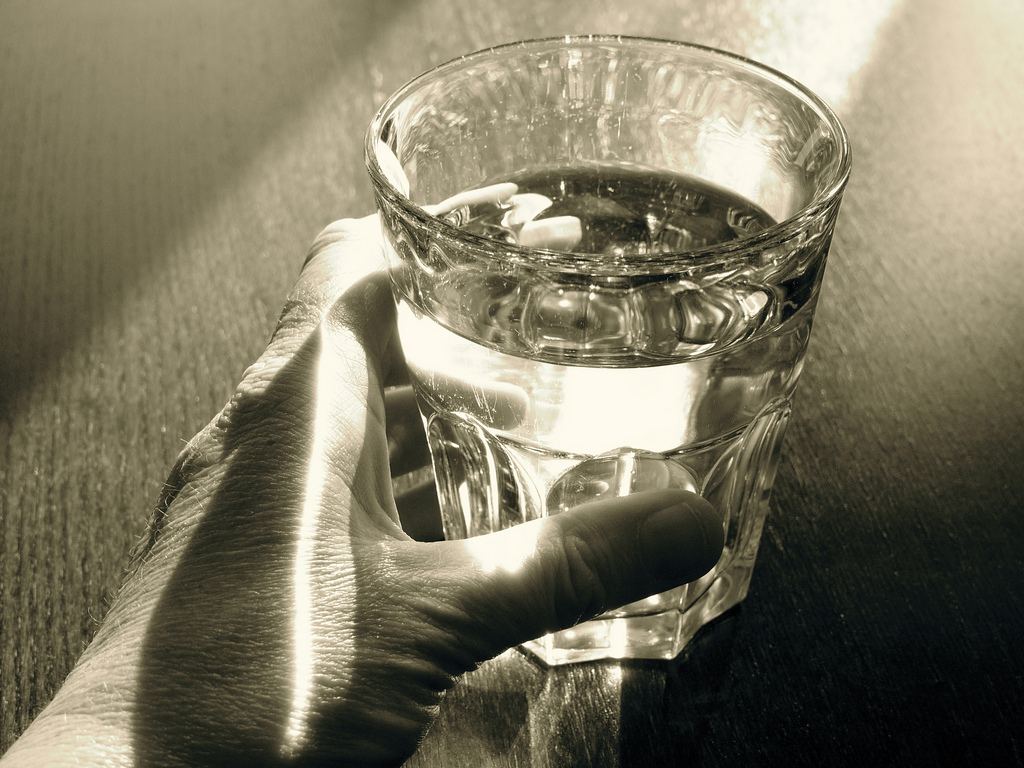glass of water: (372, 1, 858, 666)
